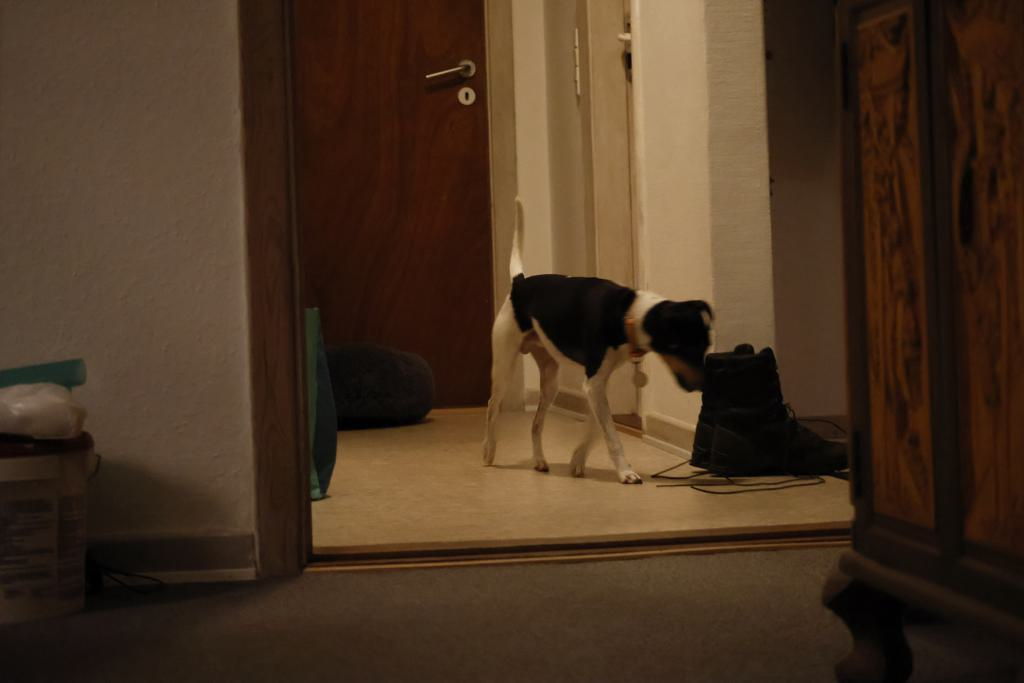Dog: (472, 183, 723, 490)
